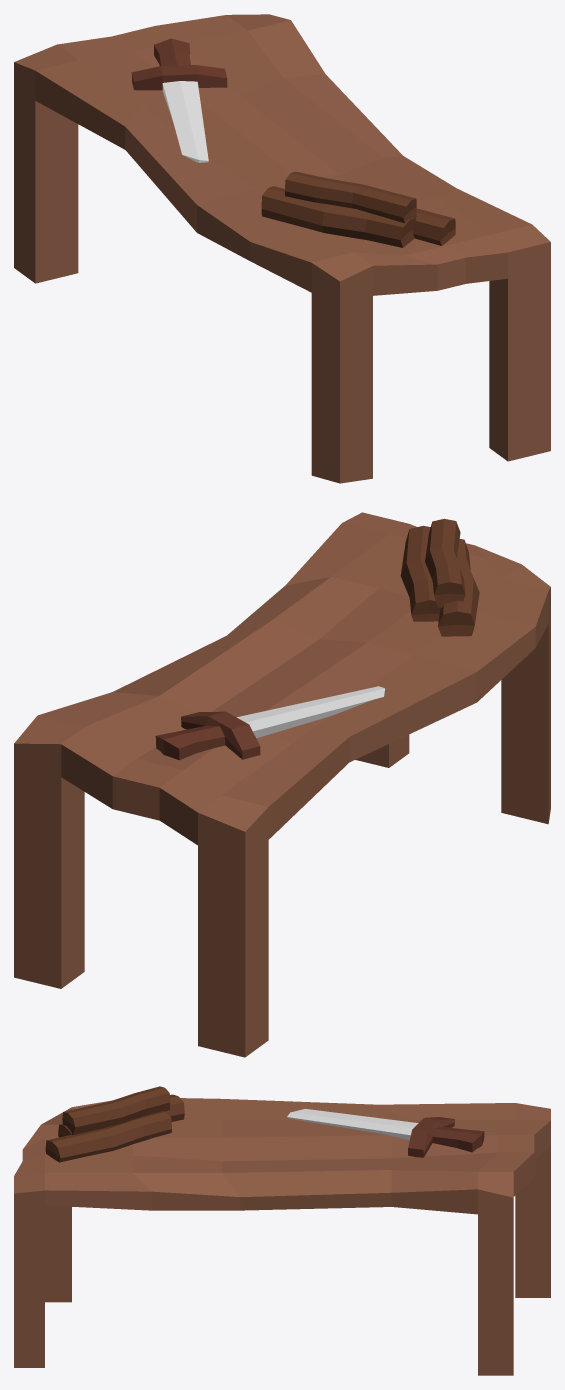
File: Craft Table.fbx
3 views of the same model, one above another, from view 1: azimuth 30°, elevation 25°; view 2: azimuth 150°, elevation 25°; view 3: azimuth 270°, elevation 25° (orthographic). The views are drawn at different scales.
Parts seen in each view (by area): view 1: CraftTable; view 2: CraftTable; view 3: CraftTable.
Boxes of the visible parts, <box> form: CraftTable: <box>14,14,550,483</box>; CraftTable: <box>14,512,550,1057</box>; CraftTable: <box>14,1086,550,1375</box>.
Size of the model in its own units: 230 by 225 by 518.
